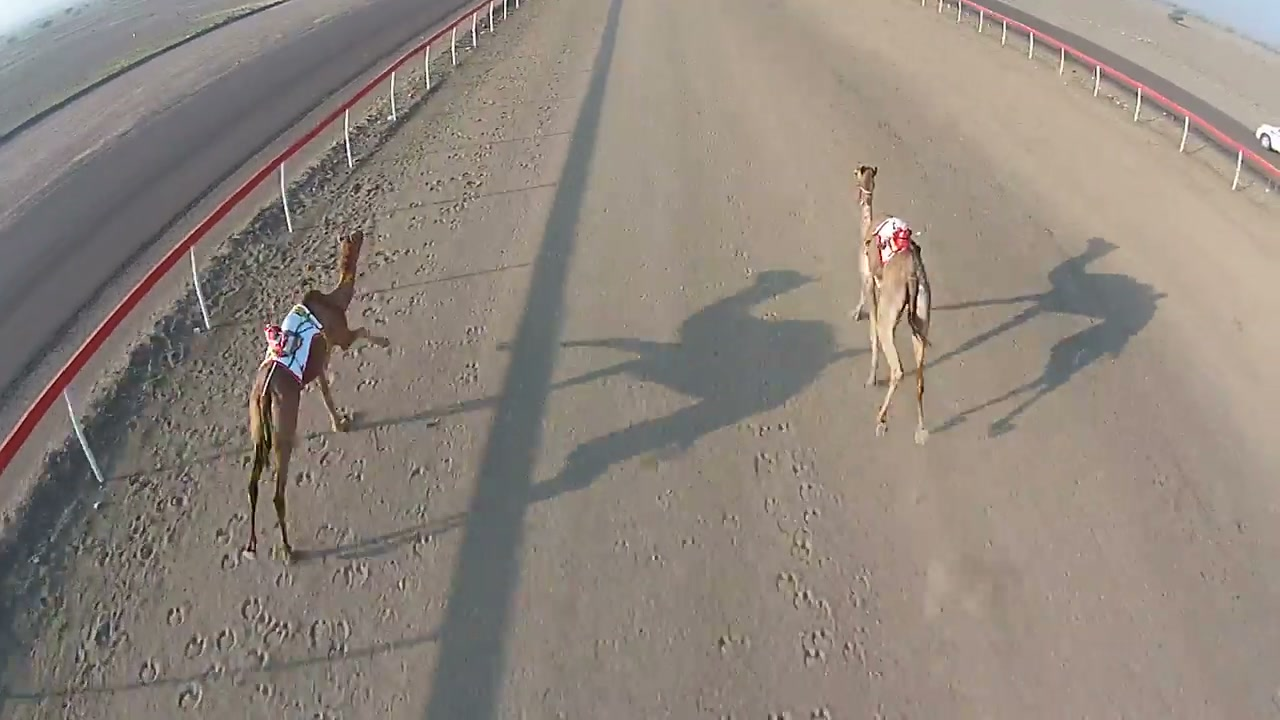animal_foot_print: (108, 473, 417, 718)
